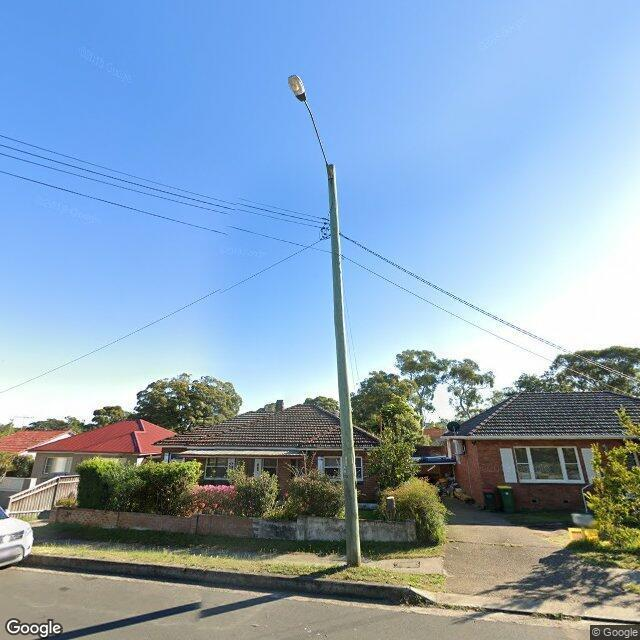streetlight: (288, 74, 333, 179)
timber-pole: (327, 164, 361, 566)
